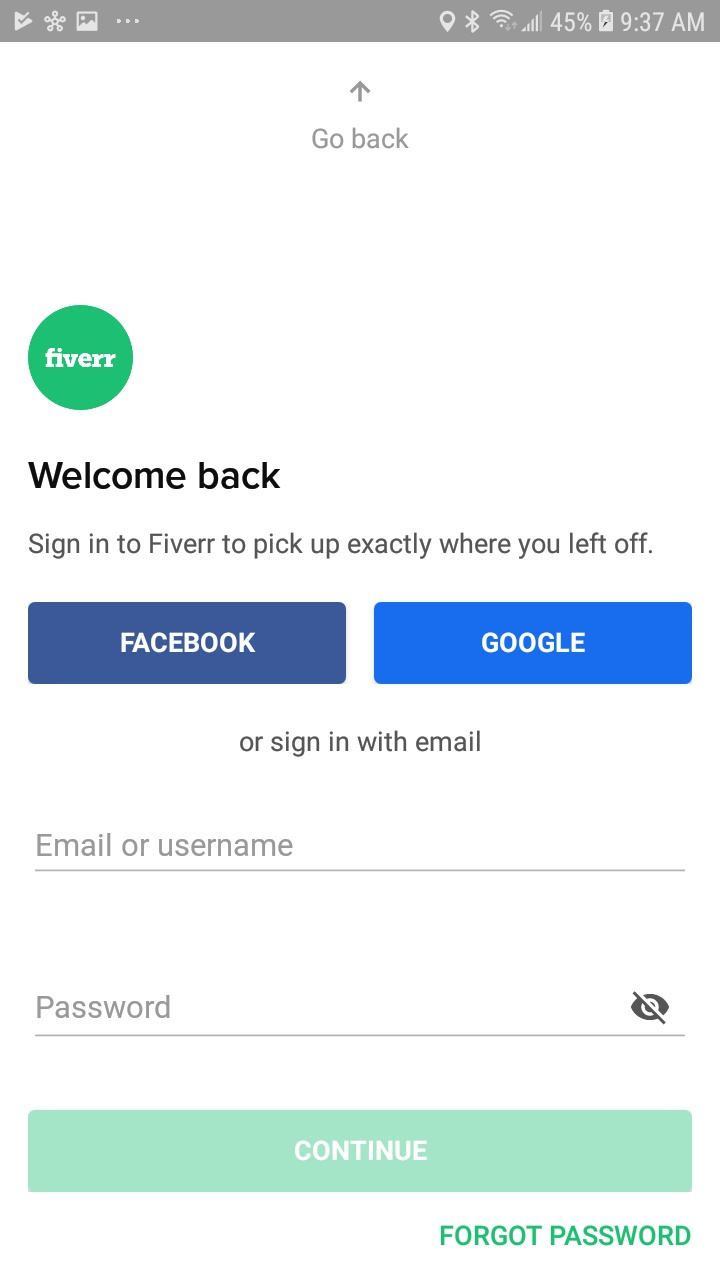EditText: (35, 990, 686, 1037), (35, 833, 686, 872)
Icon: (630, 990, 670, 1025), (350, 81, 371, 103)
Image: (28, 305, 134, 411)
Text: (29, 532, 653, 560), (28, 462, 282, 490), (240, 730, 481, 758), (38, 833, 294, 857), (440, 1224, 691, 1246), (37, 994, 171, 1019), (312, 127, 410, 150)
TextButton: (29, 1110, 692, 1193), (28, 602, 347, 685), (374, 602, 692, 685)
UpperTaskBar: (1, 1, 720, 43)
